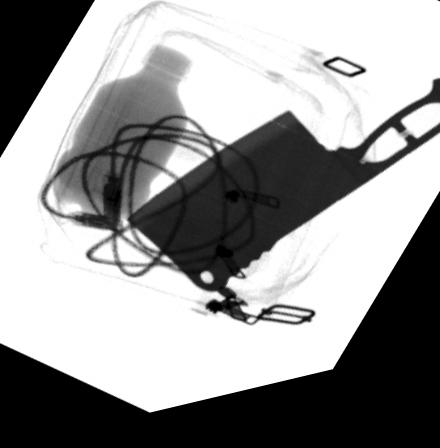Knife: (122, 97, 440, 303)
